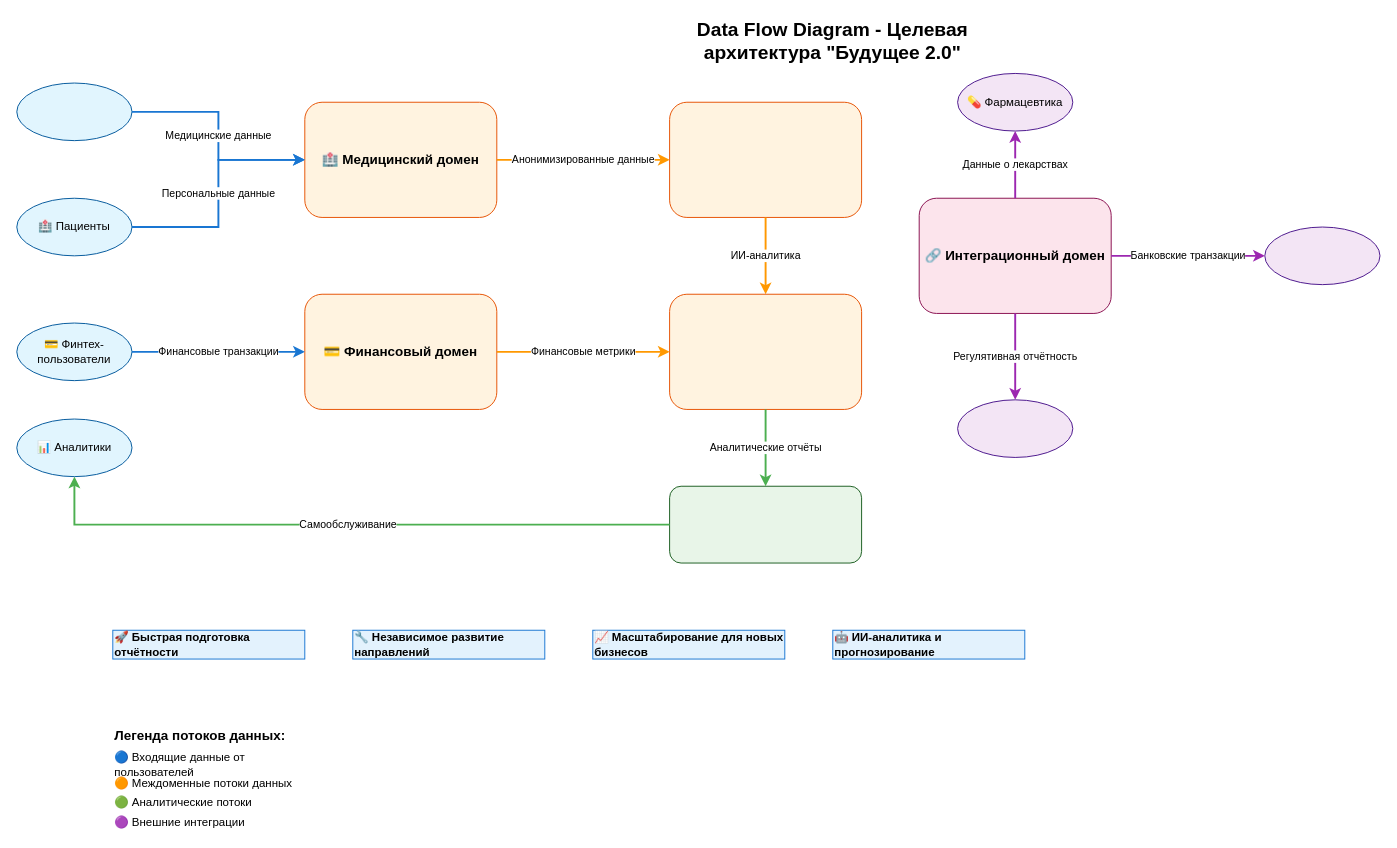
The diagram is 1397 pixels wide and 848 high, and some of its shapes have lost their labels. The centre of each missing label's shape, as x and y in pixels:
"⚖️ Регуляторы" goes at point (1015, 428).
"🏦 Банки" goes at point (1322, 255).
"👩‍⚕️ Врачи" goes at point (74, 111).
"📊 Аналитический домен" goes at point (765, 351).
"📱 Портал самообслуживания" goes at point (765, 524).
"🤖 ИИ домен" goes at point (765, 159).
